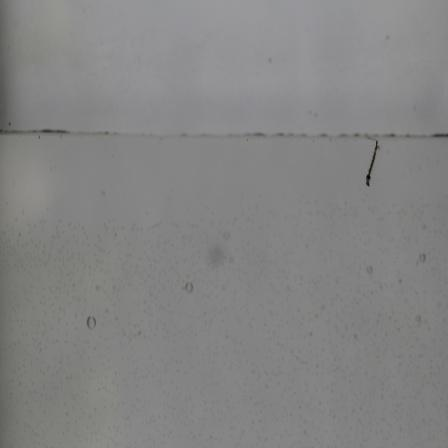Jentik-Nyamuk: (358, 136, 386, 189)
